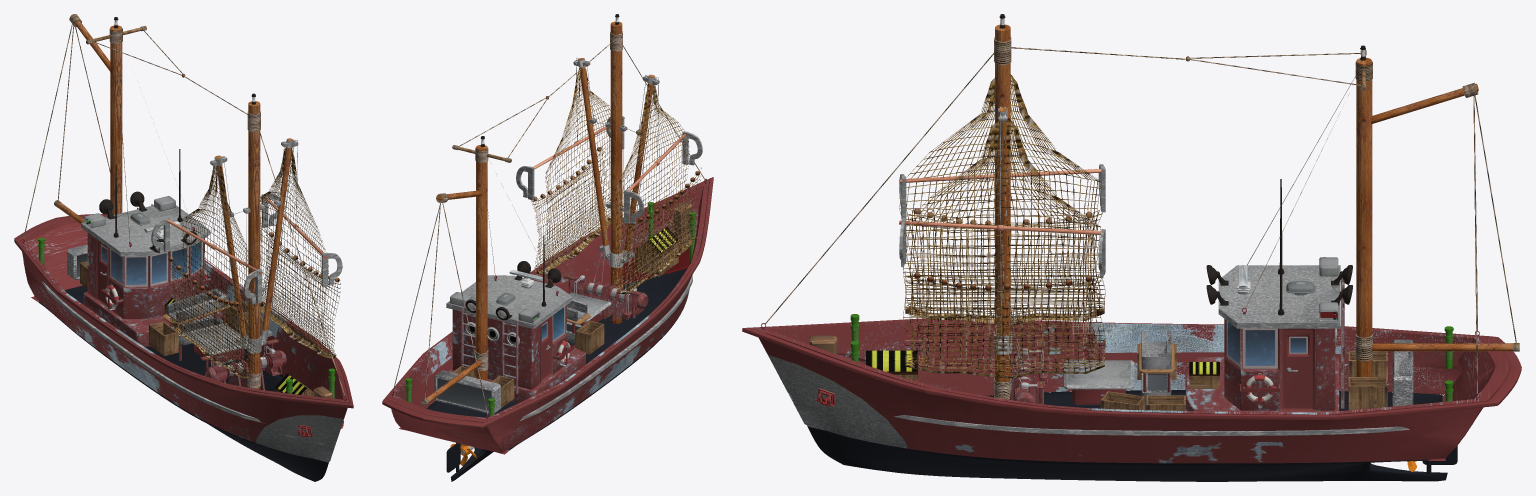
Rendered from fishing_boat_v.glb.
The picture shows the model from 3 angles, left to right: view 1: azimuth 30°, elevation 25°; view 2: azimuth 150°, elevation 25°; view 3: azimuth 270°, elevation 25°; orthographic projection. The views are drawn at different scales.
Visible parts, largest first — view 1: Object_43, Object_7, Object_37, Object_42, Object_44, Object_48, Object_11, Object_24, Object_17, Object_46, Object_30, Object_21 (+7 smaller); view 2: Object_7, Object_43, Object_44, Object_42, Object_37, Object_48, Object_46, Object_30, Object_17, Object_24, Object_21, Object_4 (+12 smaller); view 3: Object_7, Object_46, Object_43, Object_37, Object_48, Object_42, Object_44, Object_24, Object_30, Object_17, Object_21, Object_11 (+4 smaller).
Boxes of the visible parts, x1,y1,x2,y2 form: Object_43: [14, 216, 353, 442]; Object_7: [167, 147, 340, 378]; Object_37: [41, 194, 343, 462]; Object_42: [83, 233, 297, 415]; Object_44: [57, 14, 293, 389]; Object_48: [39, 285, 328, 481]; Object_11: [101, 241, 202, 287]; Object_24: [23, 14, 344, 395]; Object_17: [67, 244, 227, 346]; Object_46: [56, 214, 353, 405]; Object_30: [80, 27, 313, 396]; Object_21: [22, 225, 347, 418]; Object_7: [531, 67, 701, 294]; Object_43: [387, 177, 713, 454]; Object_44: [426, 21, 654, 402]; Object_42: [449, 208, 698, 402]; Object_37: [446, 116, 702, 420]; Object_48: [426, 268, 687, 481]; Object_46: [382, 177, 712, 441]; Object_30: [452, 146, 678, 407]; Object_17: [434, 299, 587, 413]; Object_24: [392, 31, 705, 414]; Object_21: [390, 240, 701, 434]; Object_4: [461, 307, 518, 393]; Object_7: [899, 74, 1105, 378]; Object_46: [742, 328, 1521, 463]; Object_43: [747, 318, 1521, 425]; Object_37: [768, 164, 1409, 448]; Object_48: [808, 390, 1457, 481]; Object_42: [837, 319, 1339, 412]; Object_44: [995, 24, 1512, 382]; Object_24: [765, 37, 1519, 399]; Object_30: [895, 53, 1387, 410]; Object_17: [1141, 330, 1413, 406]; Object_21: [765, 320, 1509, 430]; Object_11: [1226, 321, 1307, 368].
Bounding box in the file's own units: 6.08 × 14.48 × 21.92.
Materials: 43 (43 with a texture image).
